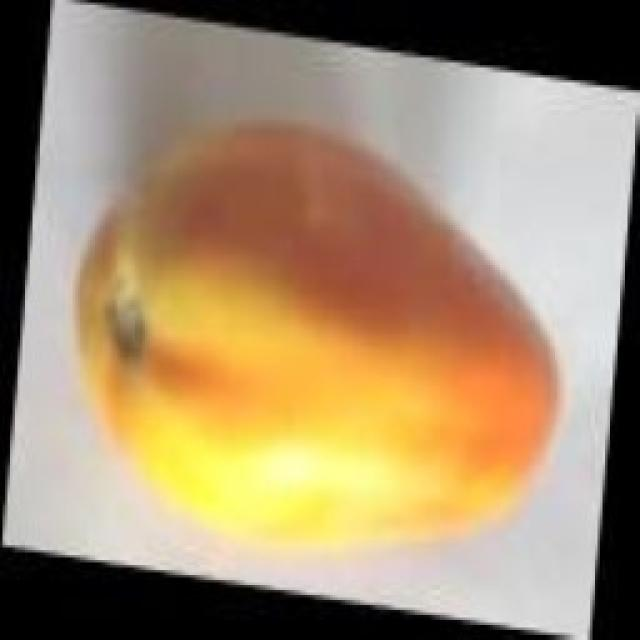unripe: (187, 165, 365, 498)
